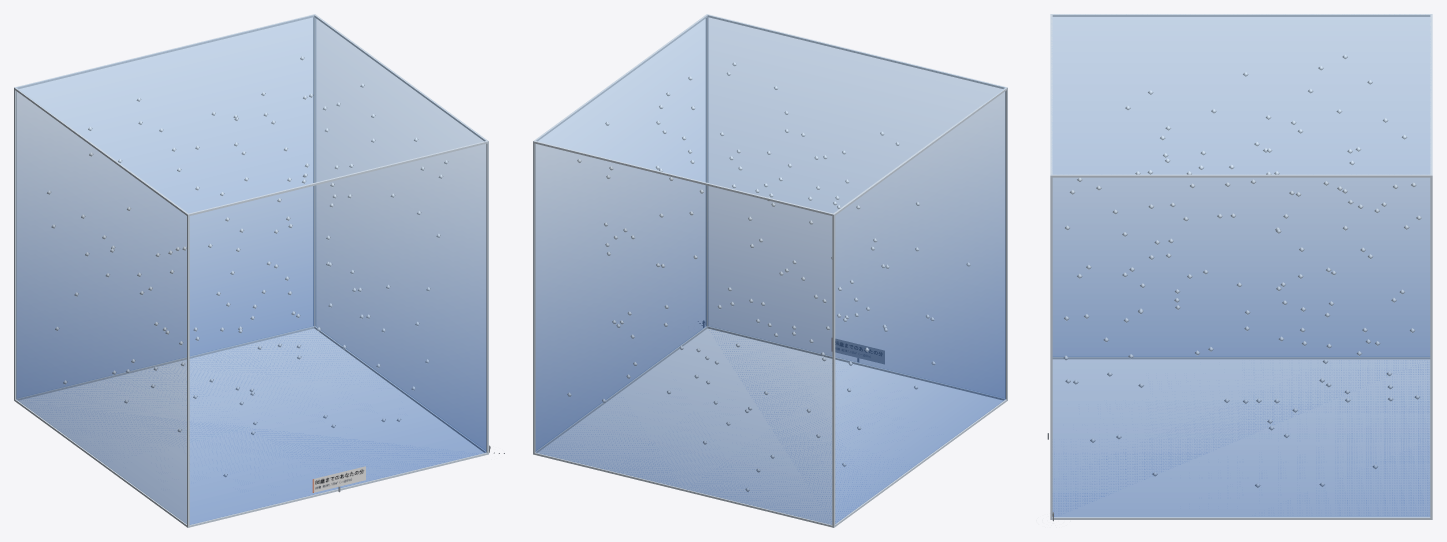
The model's file is cube_life_86.glb.
3 views of the same model, side by side, from view 1: azimuth 30°, elevation 25°; view 2: azimuth 150°, elevation 25°; view 3: azimuth 270°, elevation 25° (orthographic). The views are drawn at different scales.
Visible parts, largest first — view 1: co2, edge, dots, label; view 2: co2, edge, dots, label; view 3: co2, edge, dots.
Part boxes in pixels (left/top/right/bottom): co2: left=16, top=15, right=486, bottom=524; edge: left=14, top=14, right=488, bottom=527; dots: left=47, top=56, right=448, bottom=477; label: left=312, top=466, right=365, bottom=492; co2: left=535, top=15, right=1005, bottom=524; edge: left=533, top=14, right=1007, bottom=527; dots: left=567, top=62, right=970, bottom=491; label: left=835, top=339, right=884, bottom=364; co2: left=1052, top=15, right=1430, bottom=516; edge: left=1050, top=14, right=1432, bottom=519; dots: left=1063, top=54, right=1421, bottom=487.
Size of the model in its own units: 71.24 by 67.47 by 70.34.
8 materials, 3 textured.
